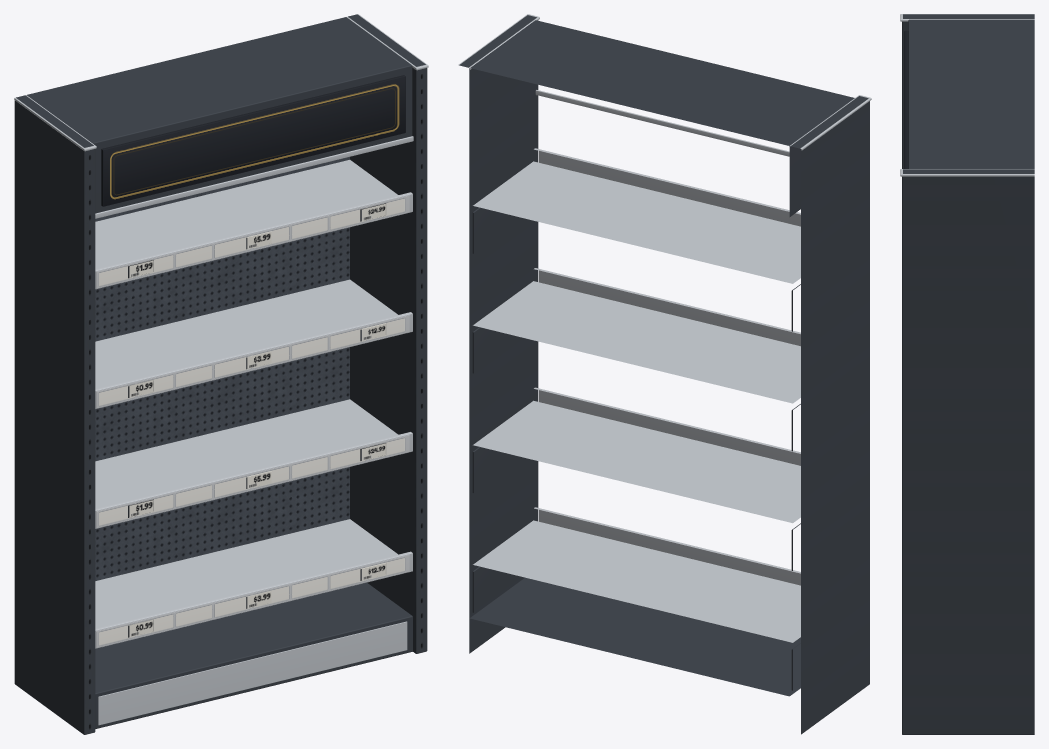
Rendered from sk_shelf_wall_120.glb.
The picture shows the model from 3 angles, left to right: view 1: azimuth 30°, elevation 25°; view 2: azimuth 150°, elevation 25°; view 3: azimuth 270°, elevation 25°; orthographic projection. The views are drawn at different scales.
Parts seen in each view (by area): view 1: sk_shelf_wall_120; view 2: sk_shelf_wall_120; view 3: sk_shelf_wall_120.
Boxes of the visible parts, x1,y1,x2,y2 form: sk_shelf_wall_120: (14,14,428,734); sk_shelf_wall_120: (458,14,871,734); sk_shelf_wall_120: (900,14,1034,734).
Size of the model in its own units: 1.2 by 1.96 by 0.425.
Materials: 6 (4 with a texture image).
